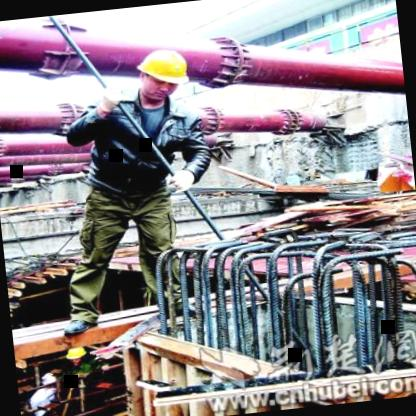helmet: (128, 40, 194, 104), (58, 342, 93, 370)
